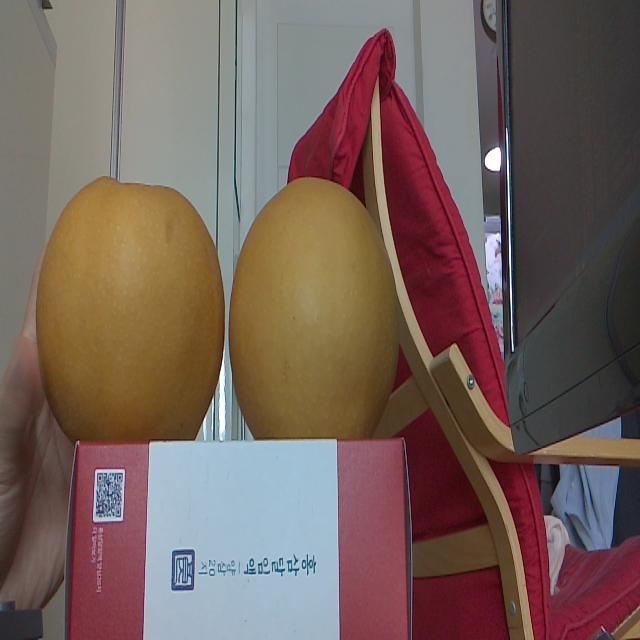pear: (34, 178, 225, 442), (228, 175, 398, 440)
